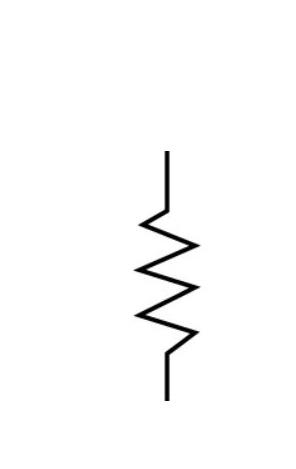resistor: (122, 185, 227, 375)
